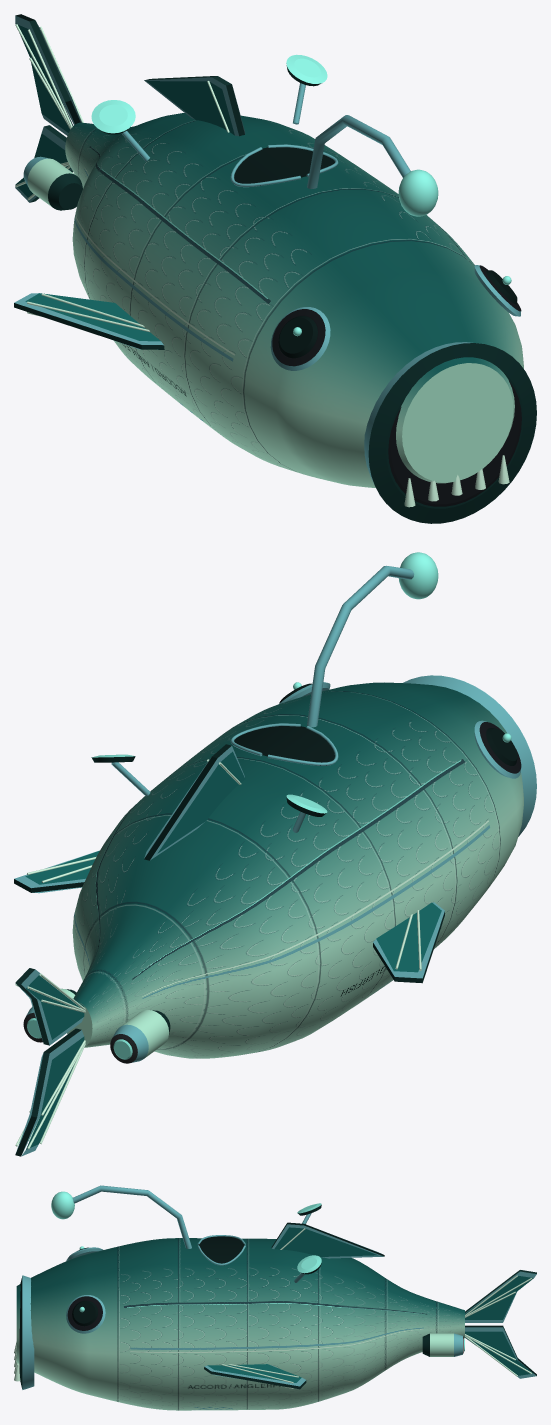
3 renders of one model, top to bottom at view 1: azimuth 30°, elevation 25°; view 2: azimuth 150°, elevation 25°; view 3: azimuth 270°, elevation 25°, orthographic. The views are drawn at different scales.
Parts seen in each view (by area): view 1: anglerfish_hull; view 2: anglerfish_hull; view 3: anglerfish_hull.
Boxes of the visible parts, x1,y1,x2,y2 form: anglerfish_hull: (14,14,536,523); anglerfish_hull: (14,552,536,1156); anglerfish_hull: (14,1185,536,1410).
Size of the model in its own units: 9.08 by 7.72 by 17.
1 material, 1 textured.
